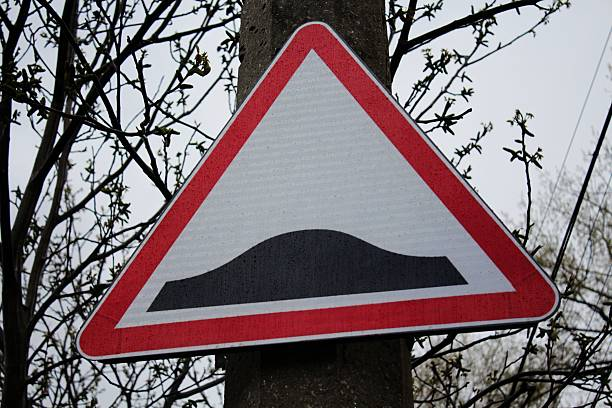speed-breaker: (103, 72, 513, 329)
